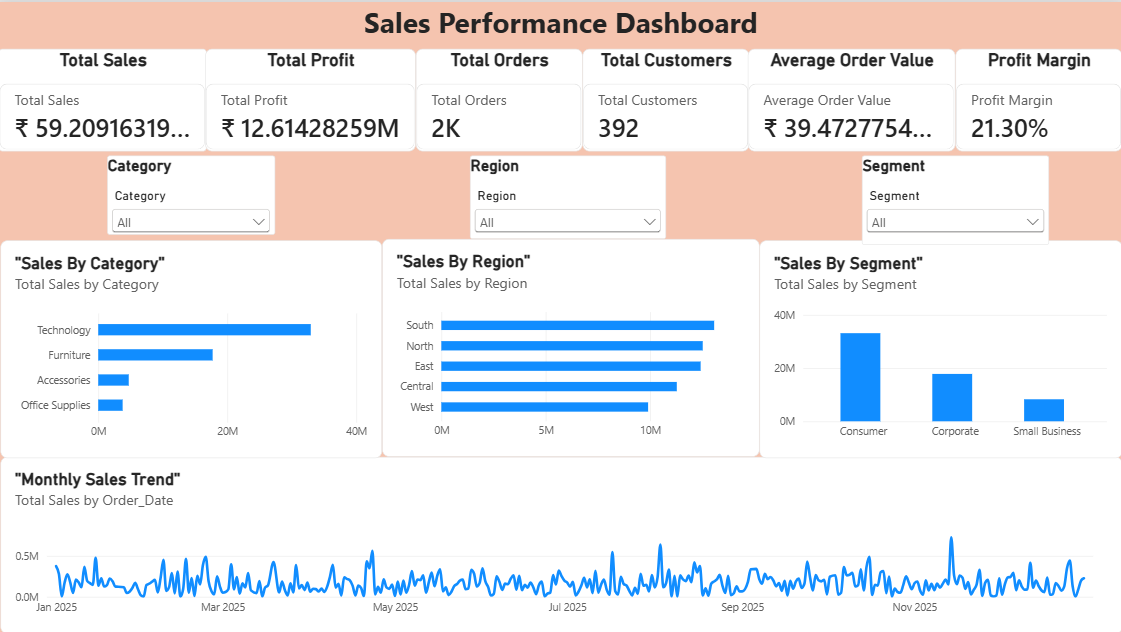

This screenshot's page, from the dashboard's own definition file:
{"tool":"powerbi","page":{"name":"Page 1","canvas":[1280,720],"ordinal":0},"visuals":[{"type":"cardVisual","title":"Total Sales","fields":{"Data":["SalesData.Total Sales"]},"box":[0,53.3,236.7,116.7],"z":0},{"type":"cardVisual","title":"Total Profit","fields":{"Data":["SalesData.Total Profit"]},"box":[235,53.3,240,116.7],"z":1000},{"type":"cardVisual","title":"Total Orders","fields":{"Data":["SalesData.Total Orders"]},"box":[475,53.3,190,116.7],"z":2000},{"type":"cardVisual","title":"Total Customers","fields":{"Data":["SalesData.Total Customers"]},"box":[665,53.3,190,116.7],"z":3000},{"type":"cardVisual","title":"Average Order Value","fields":{"Data":["SalesData.AOV"]},"box":[853.3,53.3,236.7,116.7],"z":4000},{"type":"cardVisual","title":"Profit Margin","fields":{"Data":["SalesData.Profit Margin"]},"box":[1090,53.3,190,116.7],"z":5000},{"type":"lineChart","title":"\"Monthly Sales Trend\"","fields":{"Category":["SalesData.Order_Date"],"Y":["SalesData.Total Sales"]},"box":[1.7,518.3,1278.3,201.7],"z":6000},{"type":"clusteredBarChart","title":"\"Sales By Category\"","fields":{"Category":["SalesData.Category"],"Y":["SalesData.Total Sales"]},"box":[1.7,271.7,435,248.3],"z":7000},{"type":"clusteredColumnChart","title":"\"Sales By Segment\"","fields":{"Category":["SalesData.Segment"],"Y":["SalesData.Total Sales"]},"box":[866.7,271.7,413.3,248.3],"z":8000},{"type":"clusteredBarChart","title":"\"Sales By Region\"","fields":{"Category":["SalesData.Region"],"Y":["SalesData.Total Sales"]},"box":[436.7,270,430,248.3],"z":9000},{"type":"textbox","box":[1.5,0,1277.6,52.7],"z":10000},{"type":"slicer","title":"Category","fields":{"Values":["SalesData.Category"]},"box":[123.3,175,191.1,90.3],"z":11000},{"type":"slicer","title":"Segment","fields":{"Values":["SalesData.Segment"]},"box":[983.3,175,213.3,101.7],"z":12000},{"type":"slicer","title":"Region","fields":{"Values":["SalesData.Region"]},"box":[537.2,175,223.3,95],"z":13000}]}

Visuals, with their boxes in screenshot pixels (x1, y1, x2, y2), scaled from the page's 1280x720 canvas onto the 1121x632 screenshot:
"Total Sales" cardVisual: <region>0, 47, 207, 149</region>
"Total Profit" cardVisual: <region>206, 47, 416, 149</region>
"Total Orders" cardVisual: <region>416, 47, 582, 149</region>
"Total Customers" cardVisual: <region>582, 47, 749, 149</region>
"Average Order Value" cardVisual: <region>747, 47, 955, 149</region>
"Profit Margin" cardVisual: <region>955, 47, 1120, 149</region>
""Monthly Sales Trend"" lineChart: <region>1, 455, 1120, 631</region>
""Sales By Category"" clusteredBarChart: <region>1, 238, 382, 456</region>
""Sales By Segment"" clusteredColumnChart: <region>759, 238, 1120, 456</region>
""Sales By Region"" clusteredBarChart: <region>382, 237, 759, 455</region>
textbox: <region>1, 0, 1120, 46</region>
"Category" slicer: <region>108, 154, 275, 233</region>
"Segment" slicer: <region>861, 154, 1048, 243</region>
"Region" slicer: <region>470, 154, 666, 237</region>
